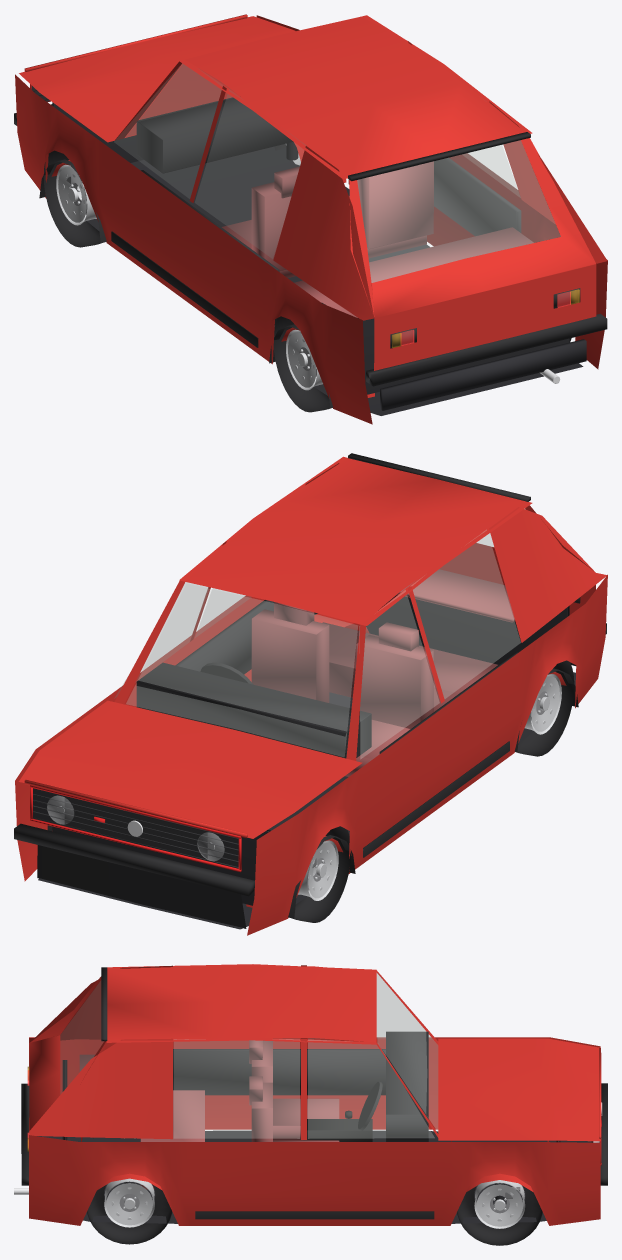
Rendered from Car_Volkswagen_Golf_GTI_Mk1_1970s.glb.
3 renders of one model, top to bottom at view 1: azimuth 30°, elevation 25°; view 2: azimuth 150°, elevation 25°; view 3: azimuth 270°, elevation 25°, orthographic. The views are drawn at different scales.
Parts seen in each view (by area): view 1: Cabin, Rear_Glass, Seats, Rear_Side, Front_Side, Chassis, Dashboard, Diffuser, Door_Panels, Doors, Front_Subframe, Windshield (+8 smaller); view 2: Cabin, Windshield, Seats, Rear_Side, Dashboard, Front_Side, Front_Subframe, Front_Splitter, Front_Clip, Doors, Door_Panels, Tire_Wheel_FR (+9 smaller); view 3: Cabin, Rear_Side, Front_Side, Door_Panels, Seats, Dashboard, Windshield, Rear_Glass, Chassis, Side_Skirts, Tire_Wheel_FL, Tire_Wheel_RL (+8 smaller).
Boxes of the visible parts, left/top/right/bottom form: Cabin: left=15, top=14, right=607, bottom=424; Rear_Glass: left=357, top=140, right=560, bottom=282; Seats: left=221, top=161, right=533, bottom=317; Rear_Side: left=195, top=90, right=520, bottom=258; Front_Side: left=114, top=63, right=223, bottom=198; Chassis: left=87, top=146, right=583, bottom=415; Dashboard: left=136, top=97, right=293, bottom=173; Diffuser: left=380, top=339, right=586, bottom=410; Door_Panels: left=141, top=157, right=521, bottom=324; Doors: left=14, top=104, right=607, bottom=386; Front_Subframe: left=52, top=102, right=569, bottom=394; Windshield: left=127, top=64, right=233, bottom=136; Cabin: left=15, top=456, right=607, bottom=935; Windshield: left=126, top=584, right=357, bottom=756; Seats: left=251, top=569, right=515, bottom=776; Rear_Side: left=195, top=530, right=520, bottom=698; Dashboard: left=136, top=662, right=371, bottom=758; Front_Side: left=114, top=582, right=439, bottom=758; Front_Subframe: left=52, top=594, right=569, bottom=905; Front_Splitter: left=37, top=845, right=246, bottom=928; Front_Clip: left=33, top=788, right=238, bottom=868; Doors: left=14, top=623, right=606, bottom=896; Door_Panels: left=175, top=600, right=517, bottom=753; Tire_Wheel_FR: left=293, top=826, right=351, bottom=922; Cabin: left=29, top=964, right=600, bottom=1225; Rear_Side: left=174, top=1038, right=299, bottom=1138; Front_Side: left=308, top=973, right=434, bottom=1138; Door_Panels: left=173, top=1049, right=385, bottom=1095; Seats: left=79, top=1040, right=339, bottom=1189; Dashboard: left=386, top=1031, right=428, bottom=1141; Windshield: left=377, top=974, right=437, bottom=1131; Rear_Glass: left=60, top=981, right=103, bottom=1093; Chassis: left=37, top=1130, right=591, bottom=1223; Side_Skirts: left=195, top=1211, right=434, bottom=1219; Tire_Wheel_FL: left=457, top=1186, right=542, bottom=1245; Tire_Wheel_RL: left=87, top=1185, right=172, bottom=1244.
Bounding box in the file's own units: 1.63 × 1.39 × 3.85.
